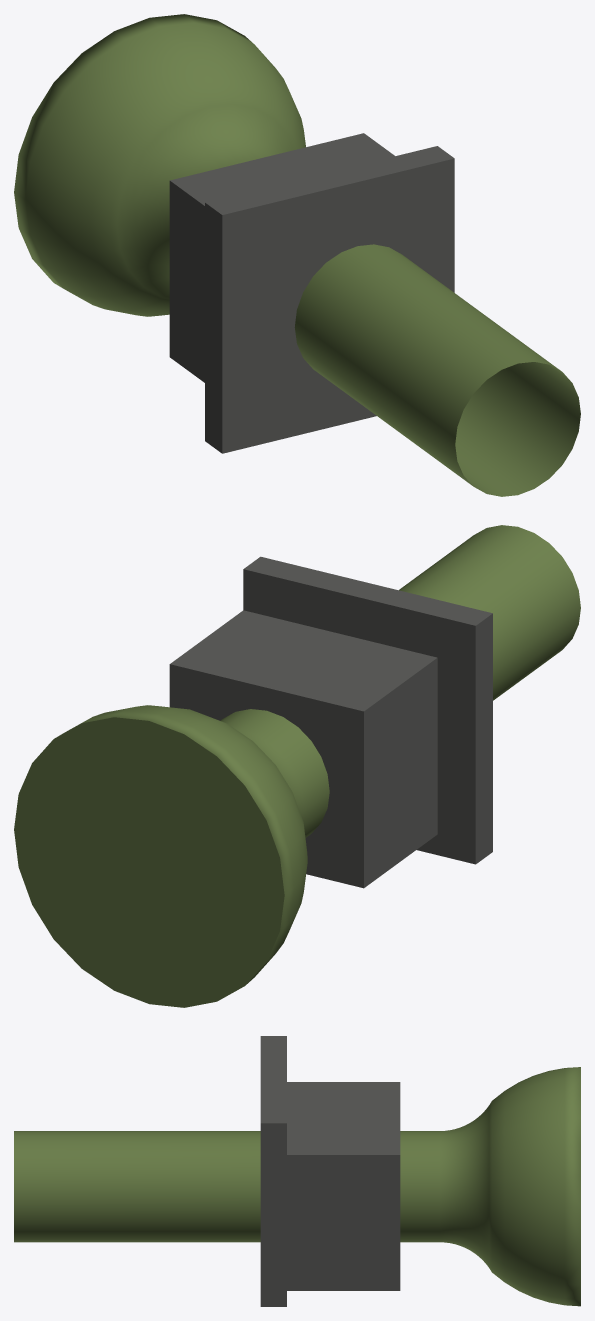
File: Suspension.dae
3 renders of one model, top to bottom at view 1: azimuth 30°, elevation 25°; view 2: azimuth 150°, elevation 25°; view 3: azimuth 270°, elevation 25°, orthographic. The views are drawn at different scales.
Parts seen in each view (by area): view 1: SketchUp_033_002; view 2: SketchUp_033_002; view 3: SketchUp_033_002.
Part boxes in pixels (bbox=[...]): SketchUp_033_002: bbox=[14, 14, 580, 496]; SketchUp_033_002: bbox=[14, 525, 580, 1007]; SketchUp_033_002: bbox=[14, 1036, 580, 1306].
Bounding box in the file's own units: 0.6498 × 1.53 × 0.6498.
